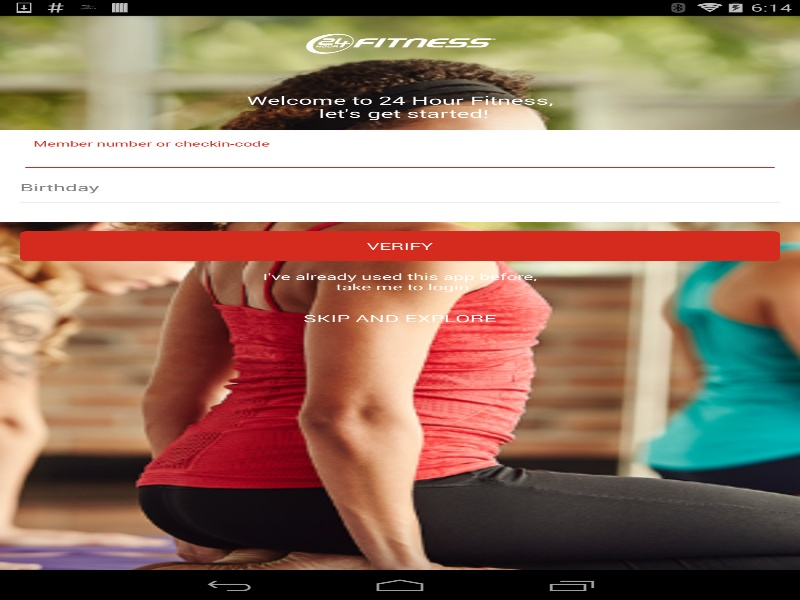Button: (20, 172, 780, 202), (20, 231, 780, 261)
Input: (20, 146, 780, 172)
